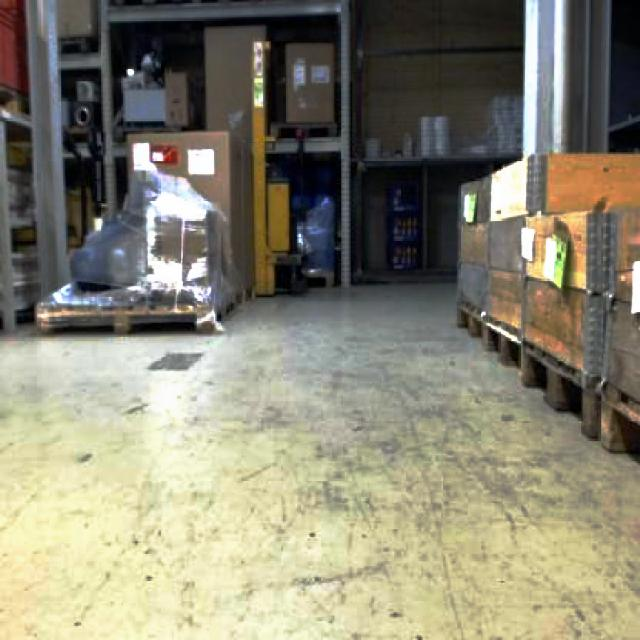ground: (0, 280, 638, 638)
pallet: (452, 148, 638, 475), (32, 129, 251, 334), (366, 169, 435, 285), (32, 298, 218, 334)
